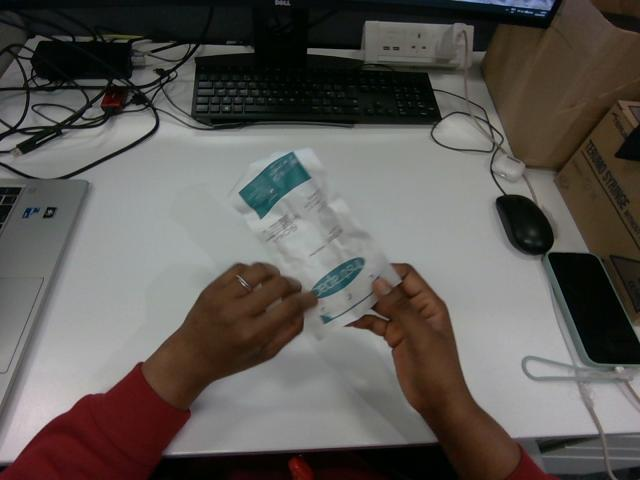gallipot: (230, 149, 399, 338)
